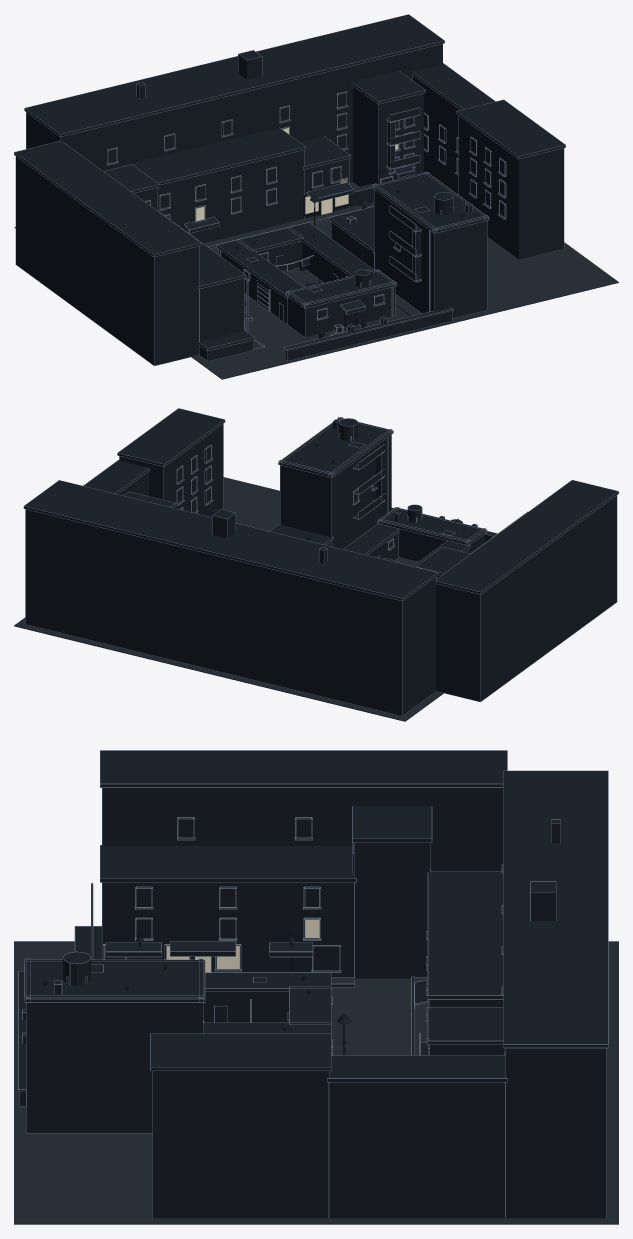
The model's file is 雨夜同行.fbx.
The picture shows the model from 3 angles, top to bottom: view 1: azimuth 30°, elevation 25°; view 2: azimuth 150°, elevation 25°; view 3: azimuth 270°, elevation 25°; orthographic projection. The views are drawn at different scales.
Parts seen in each view (by area): view 1: 背景_西, 背景_北, 背景_北_女儿墙, 描线_focus_雨夜同行_暗, 地面.004, 背景_东, 仓库, 北排屋, 背景_西_女儿墙, 住处, 北排屋_女儿墙, 背景_东_女儿墙 (+25 smaller); view 2: 背景_北, 背景_西, 背景_北_女儿墙, 背景_西_女儿墙, 描线_focus_雨夜同行_暗, 仓库, 地面.004, 背景_东, 背景_东_女儿墙, 仓库_女儿墙, 酒馆_女儿墙, 东端楼_女儿墙 (+5 smaller); view 3: 背景_北_女儿墙, 地面.004, 背景_东, 东端楼, 背景_西, 仓库, 背景_北, 背景_西_女儿墙, 店面, 描线_focus_雨夜同行_暗, 转角楼, 北排屋_女儿墙 (+20 smaller).
Boxes of the visible parts, x1,y1,x2,y2 form: 背景_西: (16, 156, 199, 365); 背景_北: (26, 44, 442, 182); 背景_北_女儿墙: (24, 14, 444, 136); 描线_focus_雨夜同行_暗: (14, 14, 565, 365); 地面.004: (14, 182, 618, 379); 背景_东: (458, 116, 563, 259); 仓库: (374, 190, 487, 318); 北排屋: (158, 150, 303, 243); 背景_西_女儿墙: (14, 141, 200, 256); 住处: (353, 86, 423, 186); 北排屋_女儿墙: (104, 127, 305, 184); 背景_东_女儿墙: (456, 100, 565, 158); 背景_北: (25, 509, 436, 715); 背景_西: (436, 495, 616, 701); 背景_北_女儿墙: (24, 480, 437, 600); 背景_西_女儿墙: (435, 480, 618, 594); 描线_focus_雨夜同行_暗: (23, 408, 618, 715); 仓库: (280, 435, 391, 549); 地面.004: (14, 477, 443, 721); 背景_东: (119, 424, 223, 517); 背景_东_女儿墙: (117, 408, 224, 466); 仓库_女儿墙: (278, 424, 393, 477); 酒馆_女儿墙: (378, 510, 486, 545); 东端楼_女儿墙: (84, 460, 149, 493); 背景_北_女儿墙: (503, 771, 608, 1047); 地面.004: (14, 941, 618, 1224); 背景_东: (152, 1071, 328, 1218); 东端楼: (329, 1082, 505, 1218); 背景_西: (102, 788, 503, 871); 仓库: (26, 1003, 202, 1132); 背景_北: (505, 1048, 606, 1218); 背景_西_女儿墙: (100, 750, 507, 787); 店面: (102, 882, 353, 976); 描线_focus_雨夜同行_暗: (18, 750, 608, 1218); 转角楼: (354, 842, 429, 978); 北排屋_女儿墙: (428, 871, 503, 998).
Bounding box in the file's own units: 5818 × 1799 × 4800.
